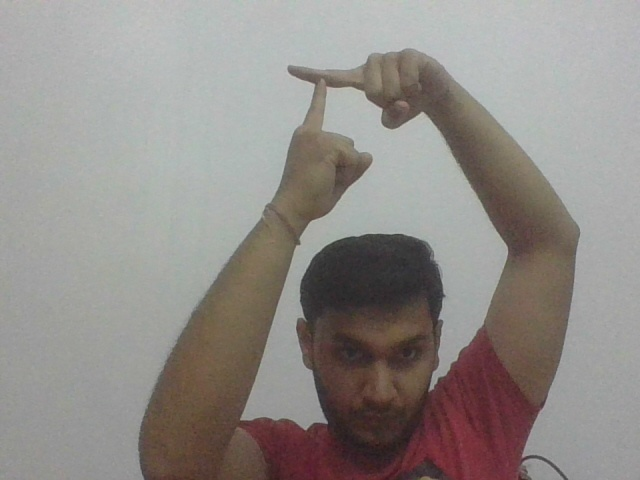T: (284, 55, 355, 128)
